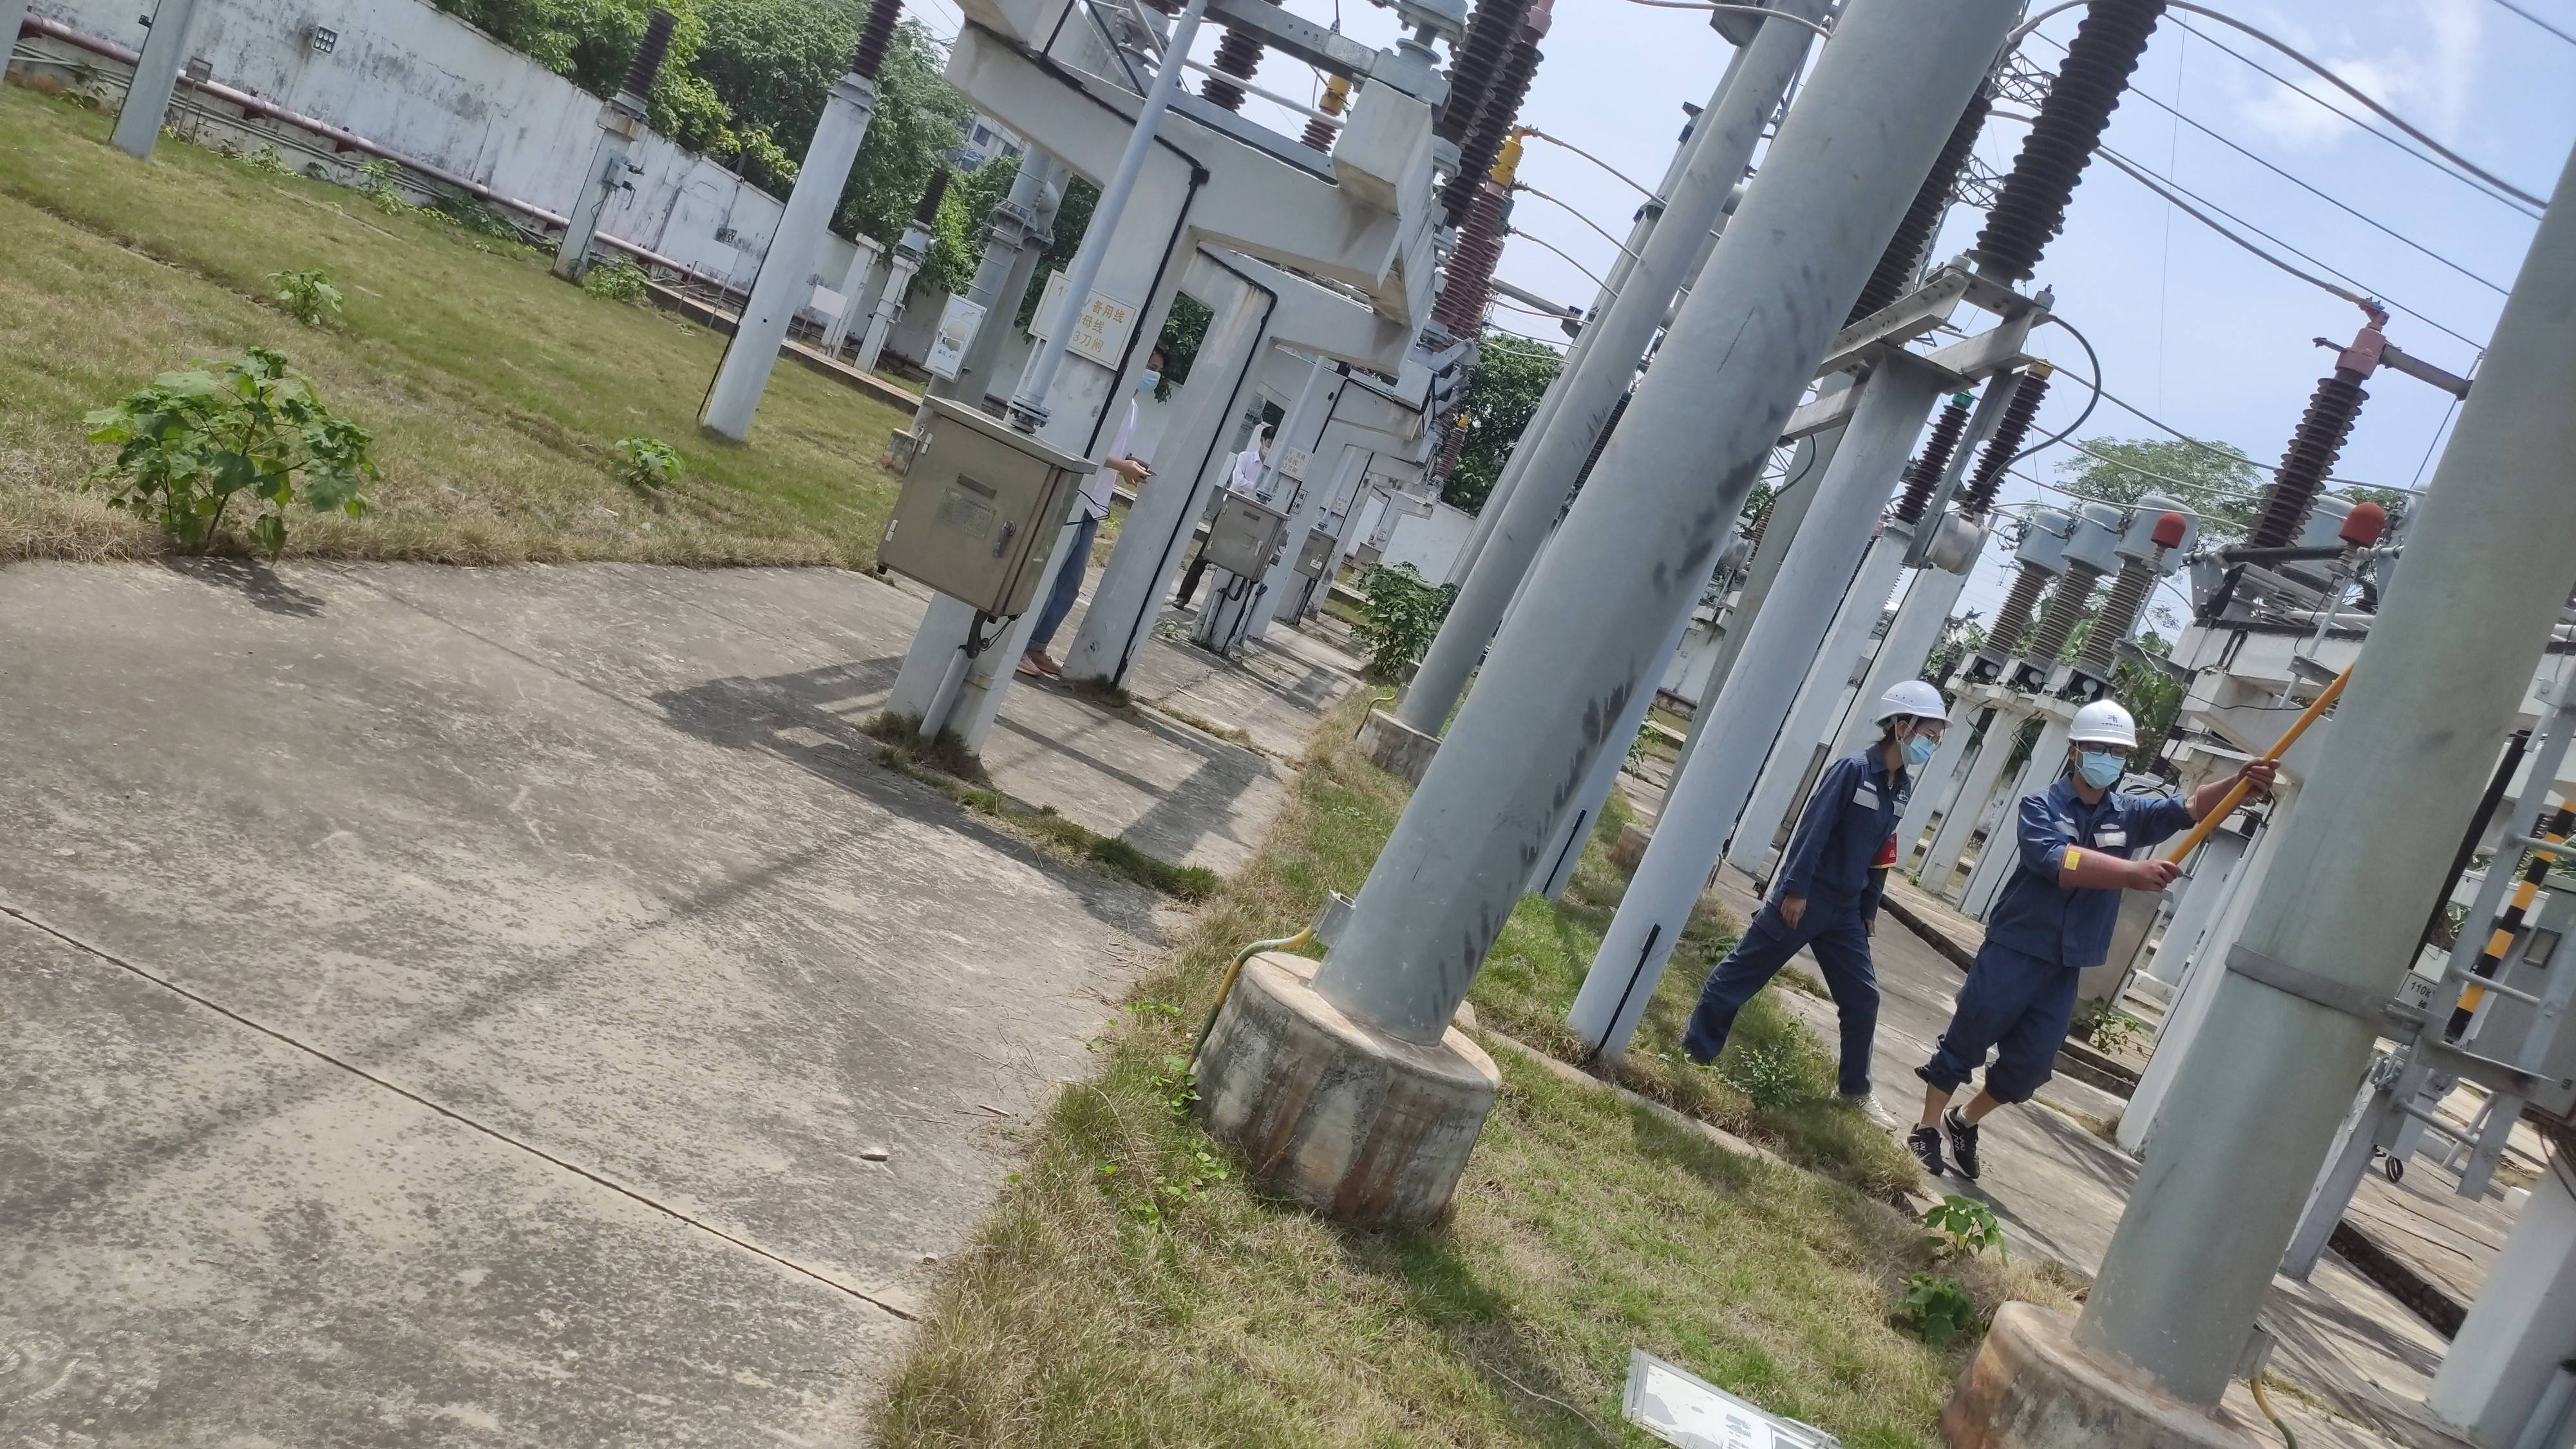downsuit: (1683, 893, 1884, 1079), (1930, 957, 2074, 1104)
upsuit: (2010, 782, 2174, 971), (1787, 755, 1905, 911)
wrongbottom: (1918, 1065, 2003, 1141)
